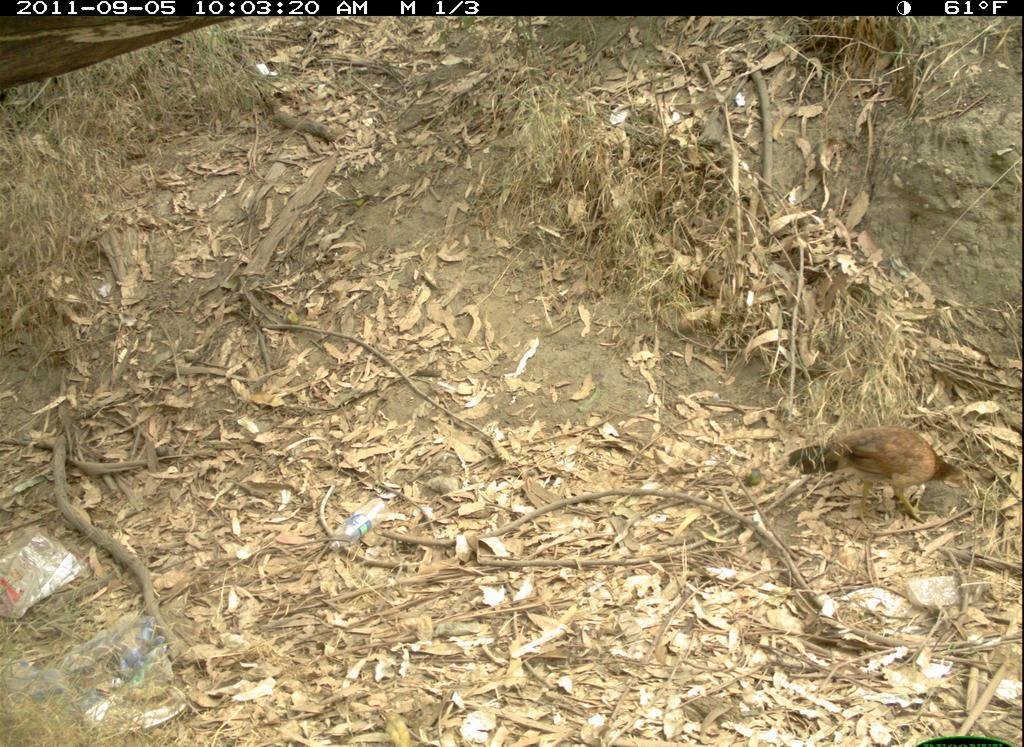bird: (784, 423, 975, 533)
